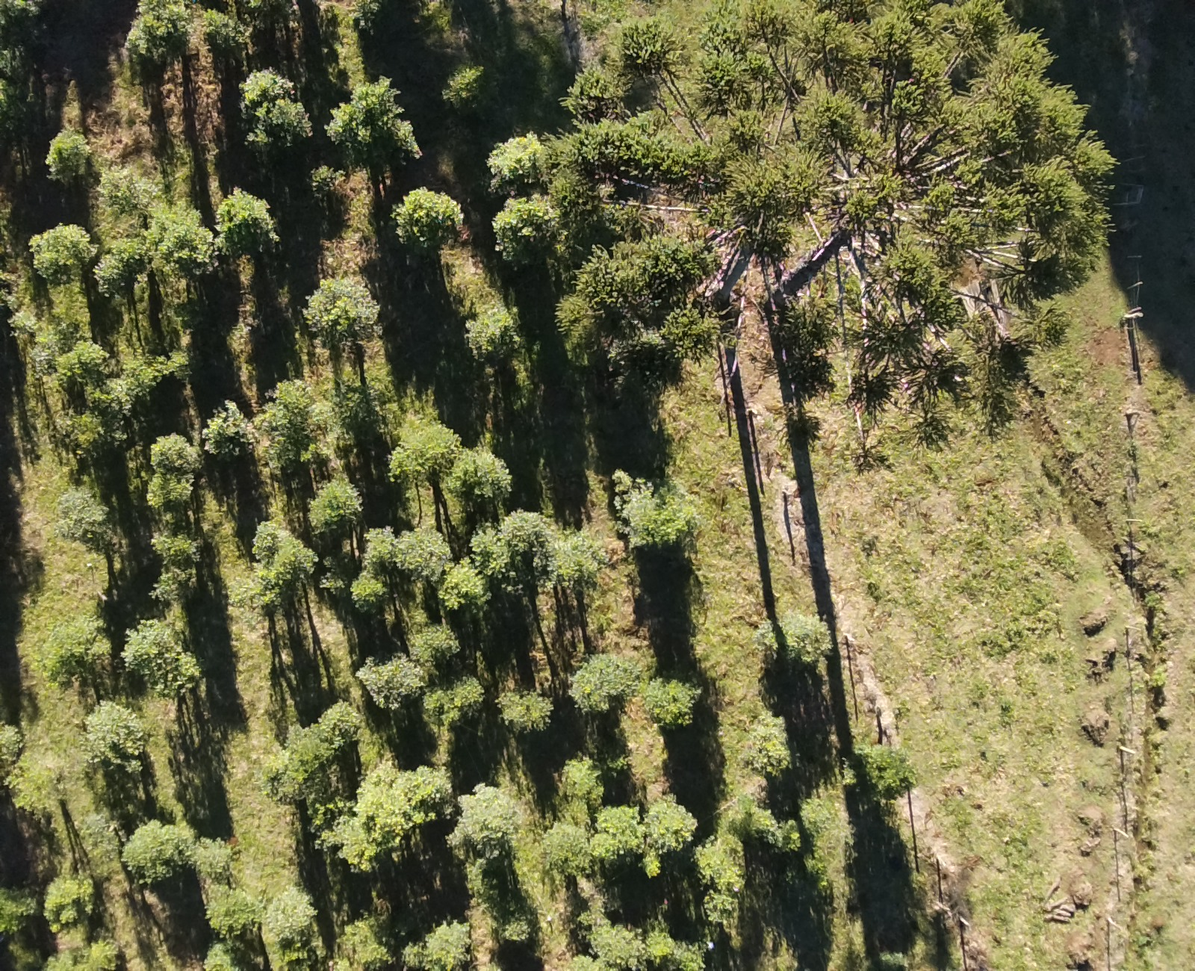erva: (450, 779, 528, 859), (745, 604, 831, 676), (79, 702, 153, 785), (625, 477, 707, 551), (37, 610, 116, 685), (253, 382, 333, 456), (848, 733, 918, 807), (568, 644, 634, 720), (391, 190, 465, 249), (117, 821, 186, 884), (490, 199, 565, 255), (549, 517, 608, 588), (352, 649, 423, 708), (391, 421, 456, 485), (636, 674, 704, 735), (358, 754, 419, 822), (29, 221, 97, 281), (467, 299, 526, 368), (129, 4, 200, 61), (456, 450, 520, 513), (49, 328, 114, 385), (158, 648, 211, 715), (305, 475, 365, 533), (398, 523, 455, 583), (262, 887, 325, 941), (245, 99, 310, 150), (207, 195, 275, 243), (65, 494, 120, 553), (418, 910, 471, 970), (580, 915, 641, 967), (204, 890, 264, 941), (481, 135, 541, 186), (92, 249, 152, 300), (374, 114, 429, 169), (497, 680, 554, 733), (46, 869, 97, 928), (338, 270, 380, 341), (698, 893, 760, 941), (538, 821, 593, 875), (199, 403, 252, 459), (748, 713, 794, 777), (501, 506, 550, 566), (260, 524, 319, 572), (151, 432, 205, 484), (96, 369, 147, 424), (162, 215, 219, 264), (462, 522, 516, 573), (434, 561, 496, 605), (299, 161, 361, 205), (293, 286, 342, 341), (231, 62, 291, 106), (288, 723, 339, 774), (596, 801, 647, 851), (433, 59, 485, 108), (43, 133, 94, 182), (648, 795, 696, 847), (189, 829, 243, 875), (355, 521, 412, 564), (760, 816, 808, 867), (119, 623, 170, 671), (202, 6, 250, 55), (556, 758, 602, 809), (245, 567, 291, 618), (408, 626, 460, 671), (317, 695, 366, 741), (144, 571, 204, 608), (57, 417, 105, 463), (710, 834, 750, 889), (261, 761, 305, 809), (413, 683, 464, 724), (321, 815, 367, 860), (346, 564, 394, 607), (350, 61, 387, 116), (324, 97, 364, 146), (140, 474, 199, 506), (416, 762, 457, 808), (152, 521, 196, 563), (736, 795, 776, 840), (660, 946, 721, 970), (496, 908, 530, 946), (198, 941, 242, 970), (462, 671, 494, 710), (316, 556, 347, 595), (648, 928, 674, 964), (590, 840, 616, 868)
